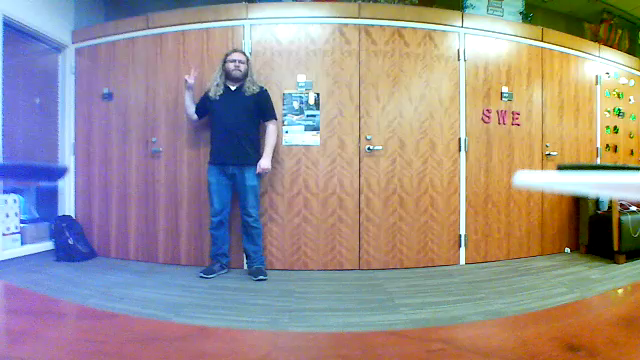peace: (178, 62, 200, 90)
